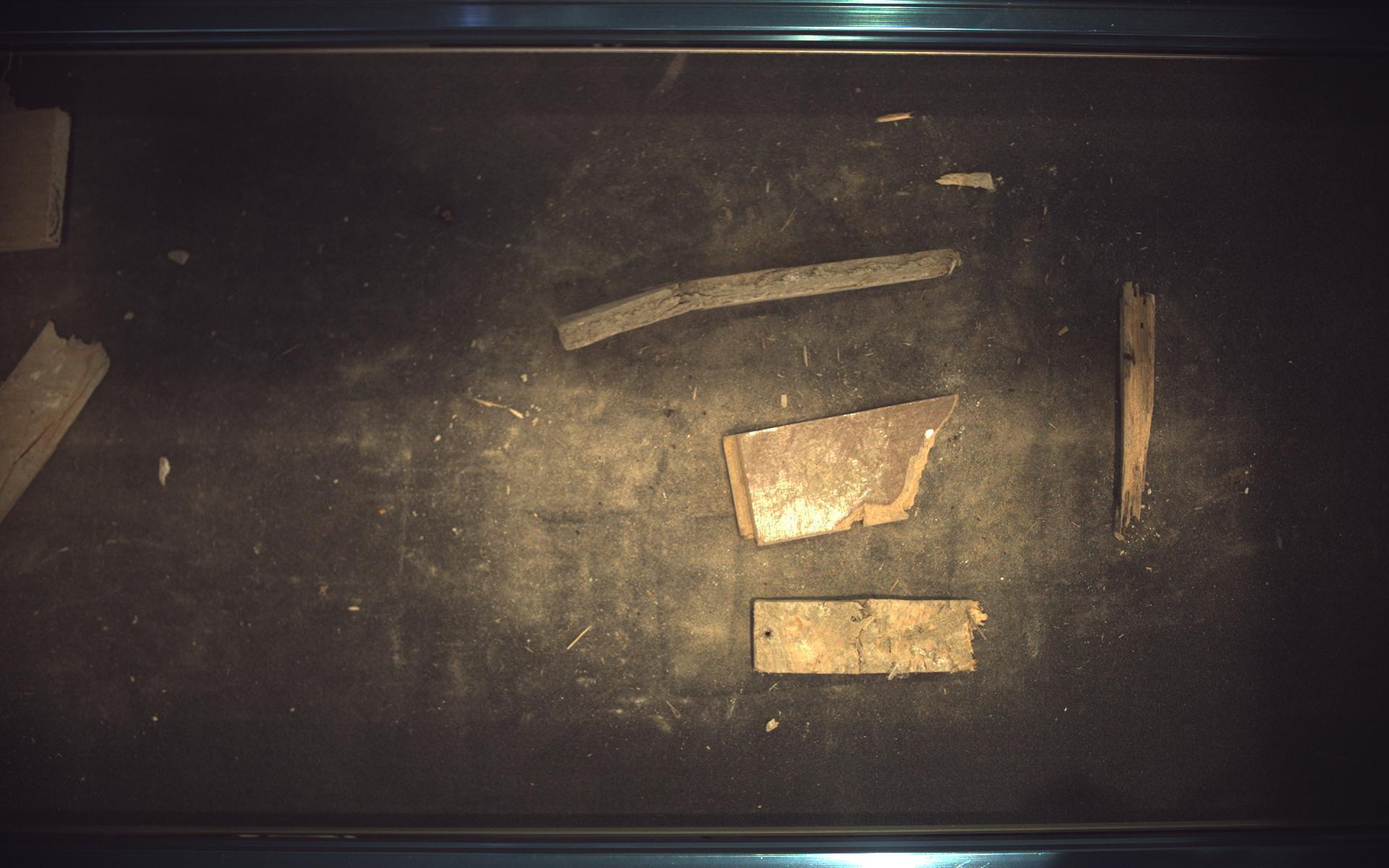wood: (558, 248, 962, 350), (724, 395, 960, 546), (1, 321, 109, 521), (755, 600, 989, 678), (1, 80, 69, 251), (1118, 281, 1158, 539)
